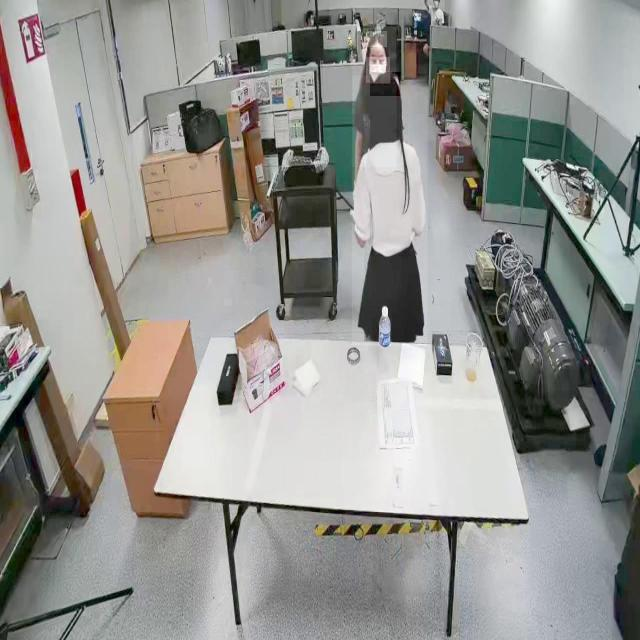face_mask: (366, 57, 390, 83)
head_nohelmet: (370, 72, 401, 97), (367, 31, 388, 48)
person: (352, 76, 428, 347), (352, 27, 397, 167)
